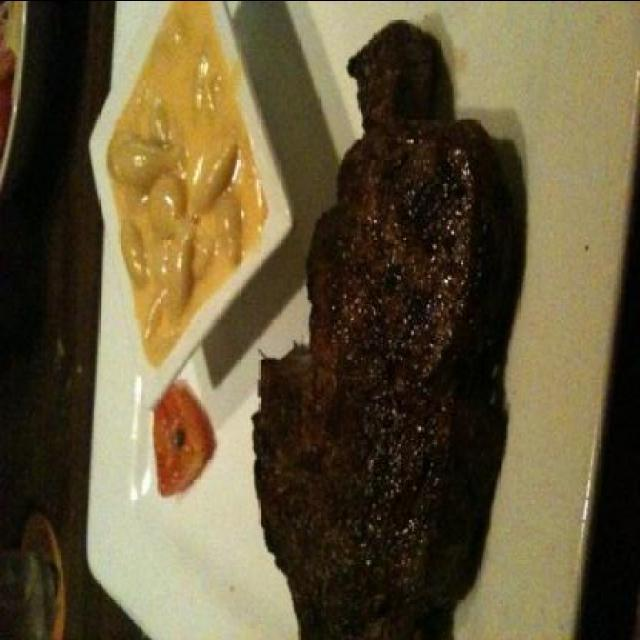Steak: (244, 47, 512, 611)
